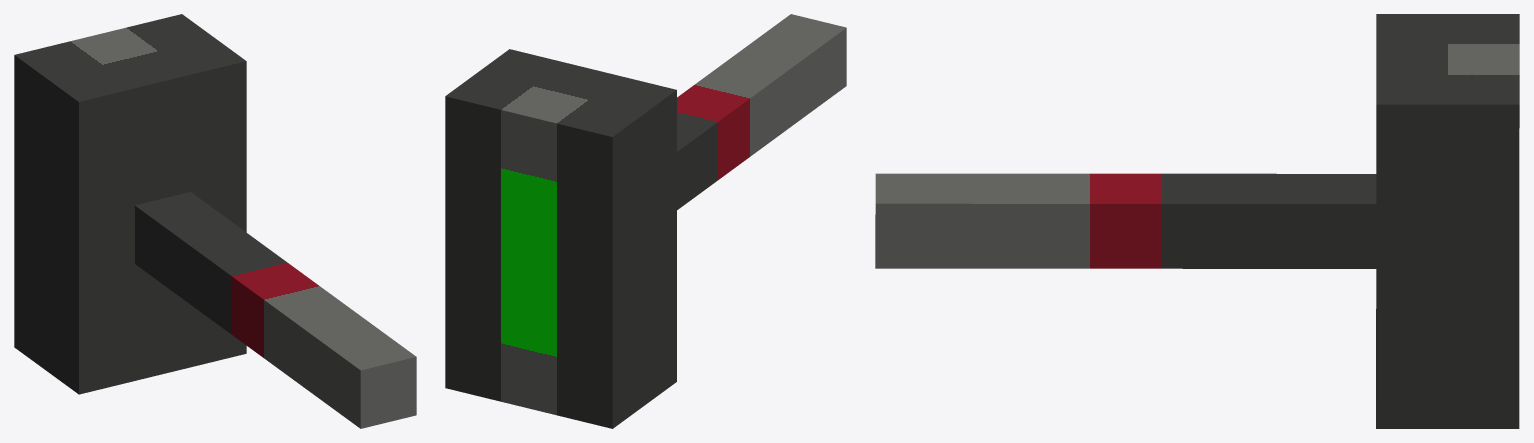
File: Hammer2.glb
The picture shows the model from 3 angles, left to right: view 1: azimuth 30°, elevation 25°; view 2: azimuth 150°, elevation 25°; view 3: azimuth 270°, elevation 25°; orthographic projection. The views are drawn at different scales.
Visible parts, largest first — view 1: Cube.001; view 2: Cube.001; view 3: Cube.001.
Part boxes in pixels (x1,y1,x2,y2): Cube.001: (14, 14, 416, 428); Cube.001: (445, 14, 846, 428); Cube.001: (875, 14, 1519, 428).
Bounding box in the file's own units: 0.1875 × 0.3126 × 0.5627.
1 material, 1 textured.
